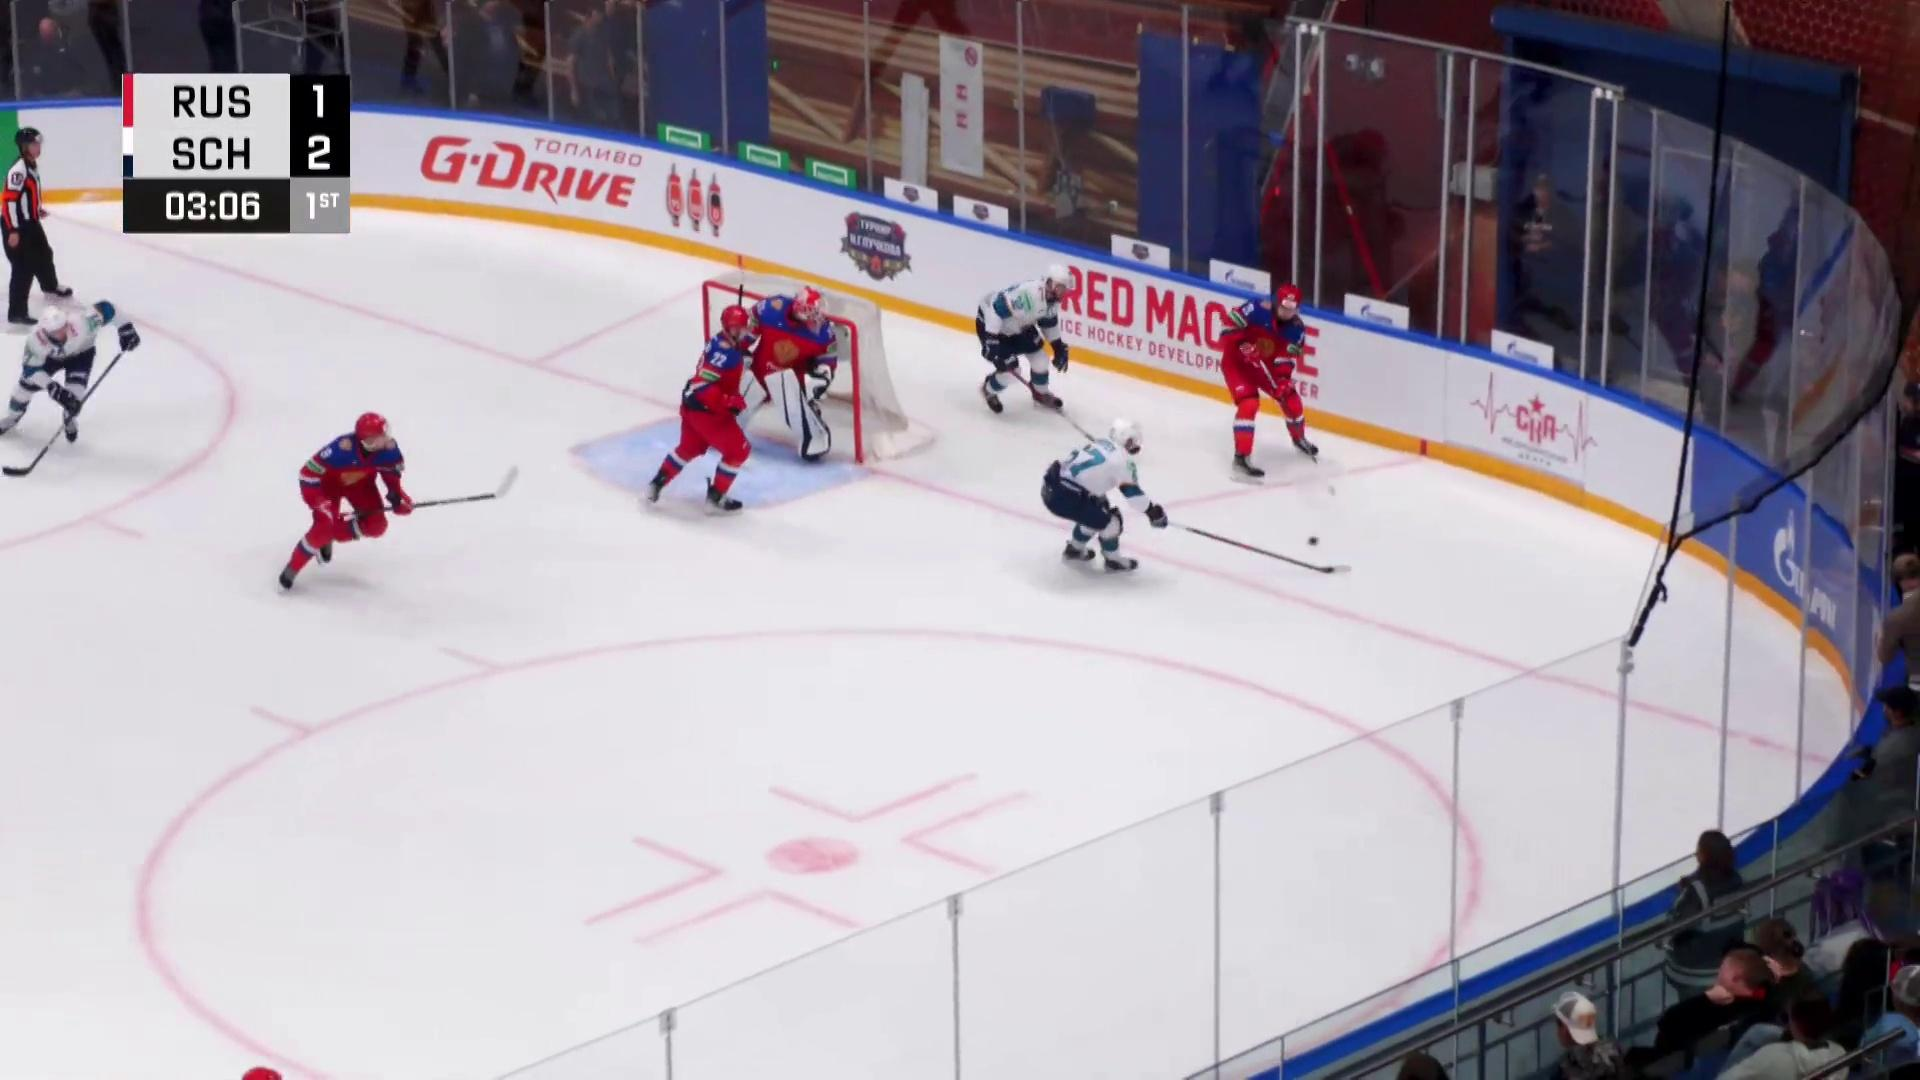ball: (1307, 537, 1320, 547)
